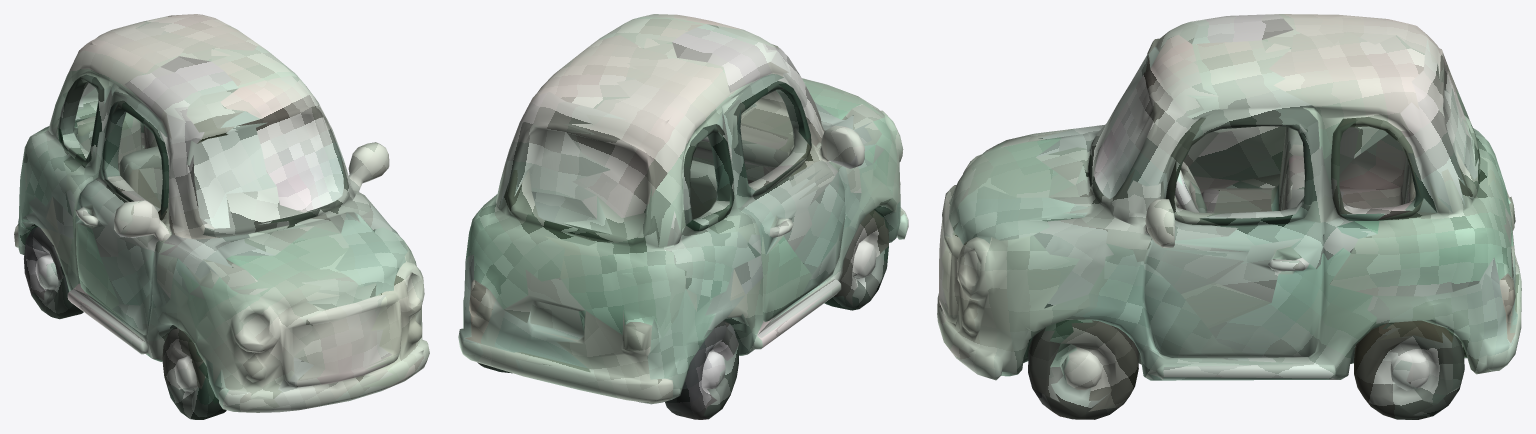
Rendered from KR_사물_s1_sm_car.glb.
3 views of the same model, side by side, from view 1: azimuth 30°, elevation 25°; view 2: azimuth 150°, elevation 25°; view 3: azimuth 270°, elevation 25° (orthographic). The views are drawn at different scales.
Visible parts, largest first — view 1: tripo_node_fa9df1d2-d27c-4a2b-8590-d1bf27df872b; view 2: tripo_node_fa9df1d2-d27c-4a2b-8590-d1bf27df872b; view 3: tripo_node_fa9df1d2-d27c-4a2b-8590-d1bf27df872b.
Part boxes in pixels (x1,y1,x2,y2): tripo_node_fa9df1d2-d27c-4a2b-8590-d1bf27df872b: [14, 14, 429, 419]; tripo_node_fa9df1d2-d27c-4a2b-8590-d1bf27df872b: [458, 14, 908, 419]; tripo_node_fa9df1d2-d27c-4a2b-8590-d1bf27df872b: [937, 14, 1521, 419].
Bounding box in the file's own units: 0.6337 × 0.6093 × 0.9996.
1 material, 1 textured.
